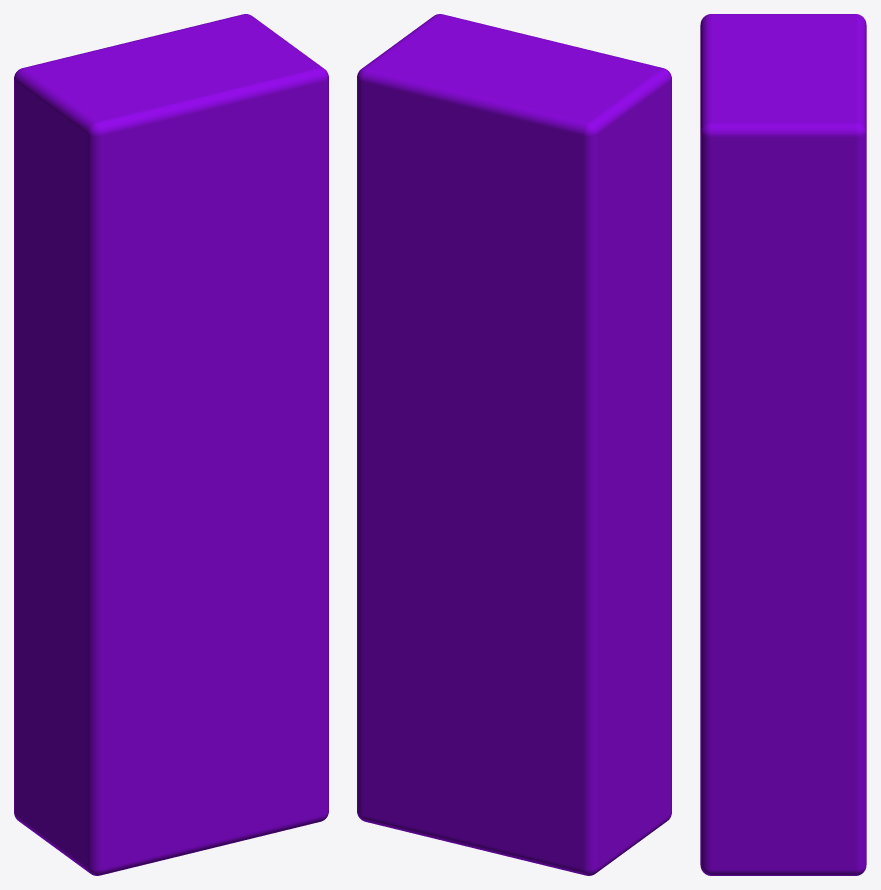
File: fichita.glb
3 renders of one model, left to right at view 1: azimuth 30°, elevation 25°; view 2: azimuth 150°, elevation 25°; view 3: azimuth 270°, elevation 25°, orthographic.
Visible parts, largest first — view 1: Jenga+Block; view 2: Jenga+Block; view 3: Jenga+Block.
Boxes of the visible parts, box(x1,y1,x2,y2) form: Jenga+Block: box(14, 14, 328, 875); Jenga+Block: box(357, 14, 671, 875); Jenga+Block: box(700, 14, 866, 875).
Size of the model in its own units: 0.0375 by 0.1125 by 0.0225.
